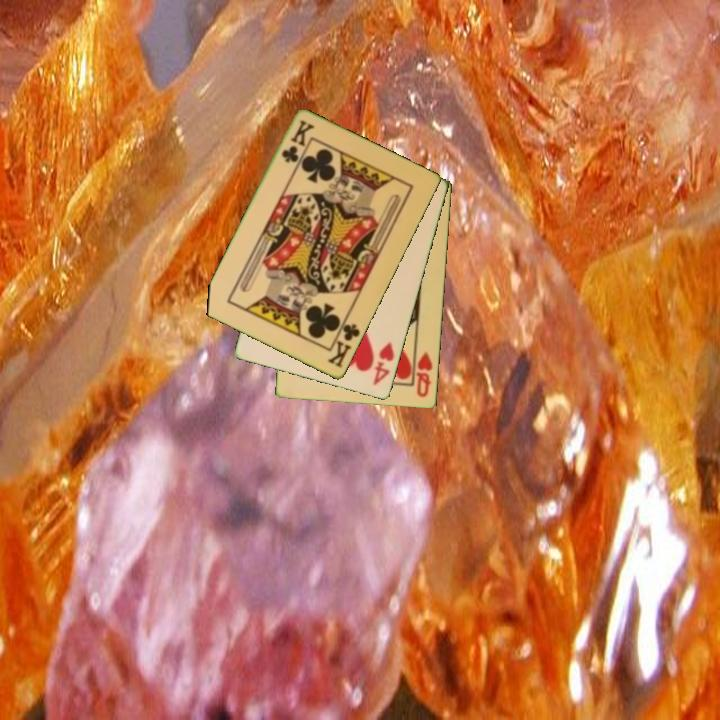4h: (370, 338, 397, 389)
Kc: (324, 315, 363, 371), (278, 117, 316, 166)
Qh: (413, 348, 436, 400)
